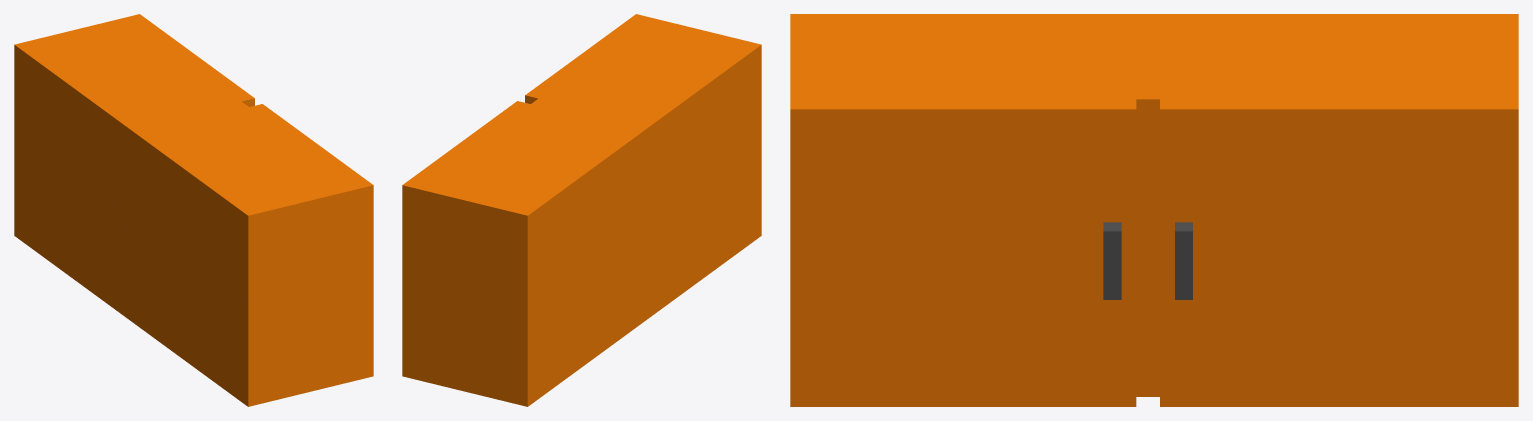
The model's file is lemari atas.fbx.
The picture shows the model from 3 angles, left to right: view 1: azimuth 30°, elevation 25°; view 2: azimuth 150°, elevation 25°; view 3: azimuth 270°, elevation 25°; orthographic projection. The views are drawn at different scales.
Parts seen in each view (by area): view 1: gagang laci 1.001; view 2: gagang laci 1.001; view 3: gagang laci 1.001.
Boxes of the visible parts, x1=… form: gagang laci 1.001: x1=14, y1=14, x2=373, y2=406; gagang laci 1.001: x1=402, y1=14, x2=761, y2=406; gagang laci 1.001: x1=790, y1=14, x2=1518, y2=406.
Bounding box in the file's own units: 283 × 375 × 832.
